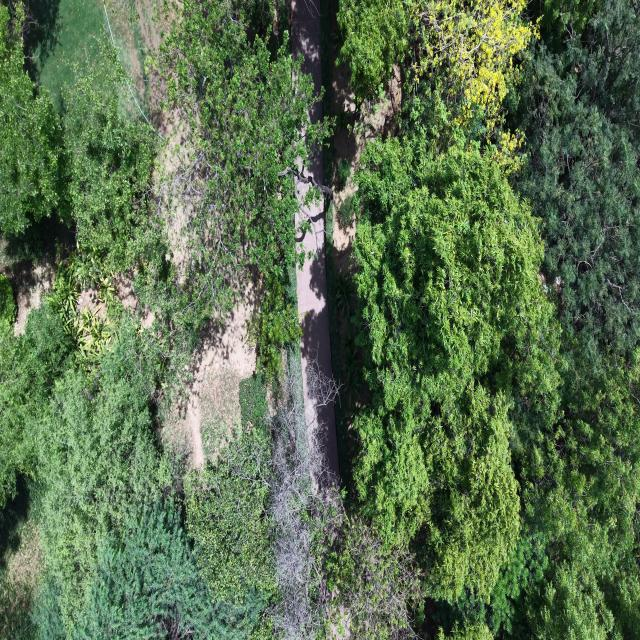DRY_AREA: (323, 39, 402, 280), (163, 281, 257, 468), (163, 285, 255, 468), (107, 0, 184, 176), (297, 182, 339, 477), (297, 203, 339, 477), (298, 206, 338, 475), (0, 248, 56, 334)
VEGETATION_TREE: (0, 0, 639, 639), (0, 3, 327, 638), (0, 3, 312, 638), (341, 2, 639, 638), (2, 3, 328, 373), (354, 137, 557, 600), (8, 307, 270, 638), (513, 2, 639, 637), (160, 0, 328, 373), (0, 304, 171, 638), (2, 305, 172, 637), (186, 348, 348, 639), (0, 4, 162, 289), (514, 2, 639, 368), (0, 4, 154, 271), (38, 331, 172, 631), (338, 0, 536, 133), (74, 499, 246, 639), (185, 378, 276, 624), (270, 345, 343, 639), (62, 46, 156, 274), (409, 0, 536, 133), (0, 307, 72, 506), (0, 4, 62, 234), (23, 0, 133, 109), (327, 519, 424, 639), (338, 0, 412, 98), (49, 255, 117, 361), (0, 478, 42, 639), (334, 274, 363, 408), (0, 274, 16, 325), (335, 159, 351, 188), (339, 197, 354, 227)
